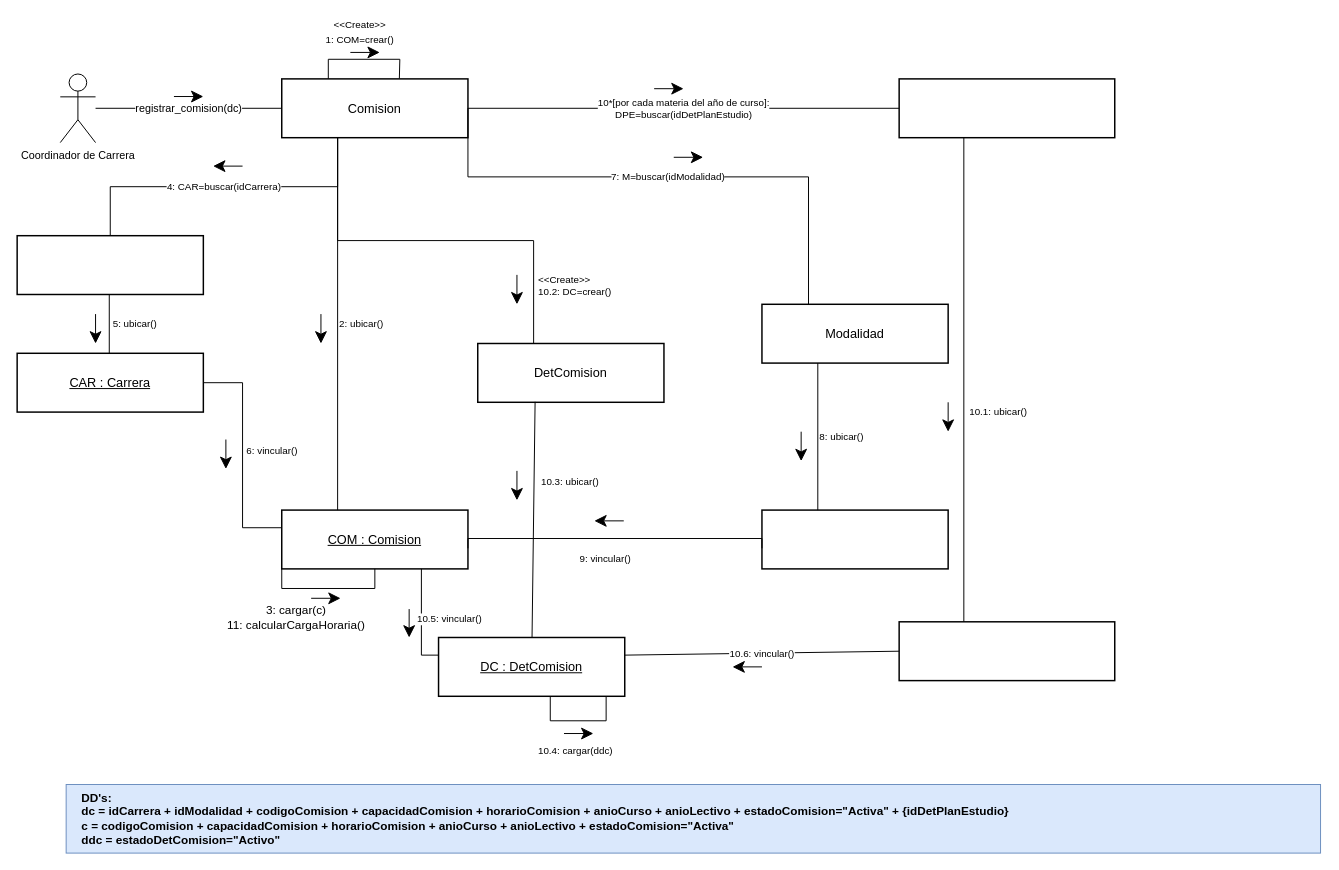
Some shapes in this 1339 by 870 pixel diagram are drawn without their labels. Each missing label, with the centre of its shape:
Carrera: [110,265]
DetallePlanEstudio: [1006,108]
DPE : DetallePlanEstudio: [1006,651]
M : Modalidad: [854,539]
